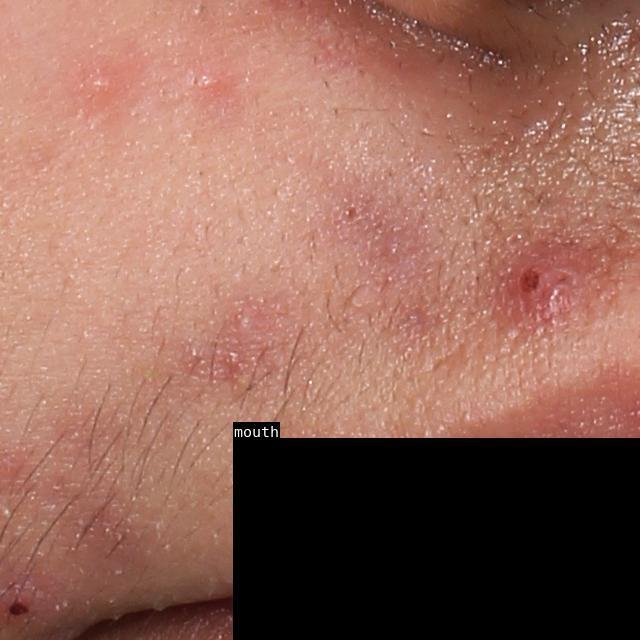comedo: (336, 202, 366, 229)
papule: (494, 238, 577, 333), (82, 66, 121, 100), (185, 66, 226, 96)
